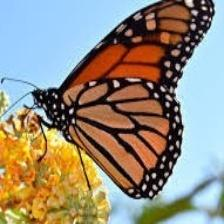butterfly: (32, 0, 215, 199)
